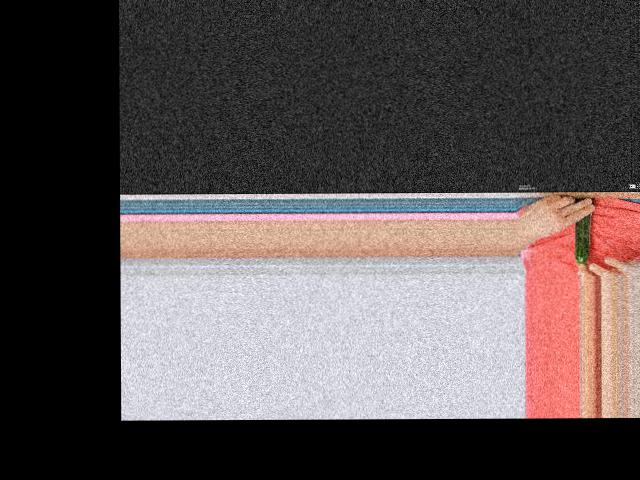cucumber: (574, 213, 590, 264)
